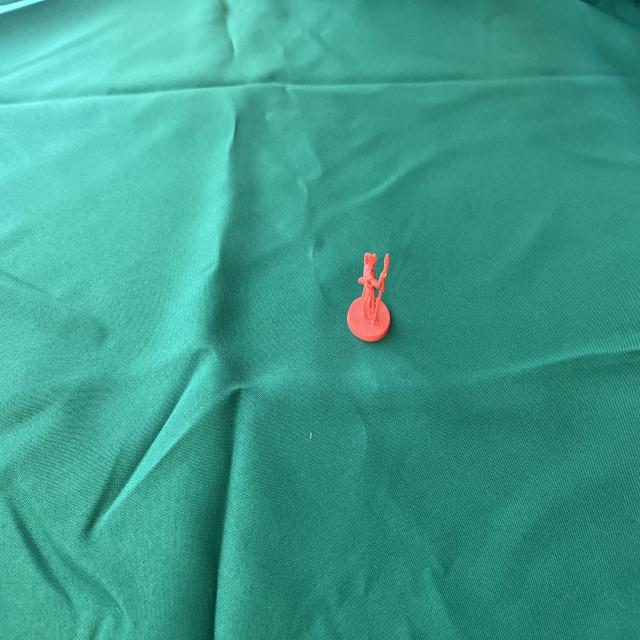amon_follower: (348, 253, 390, 342)
